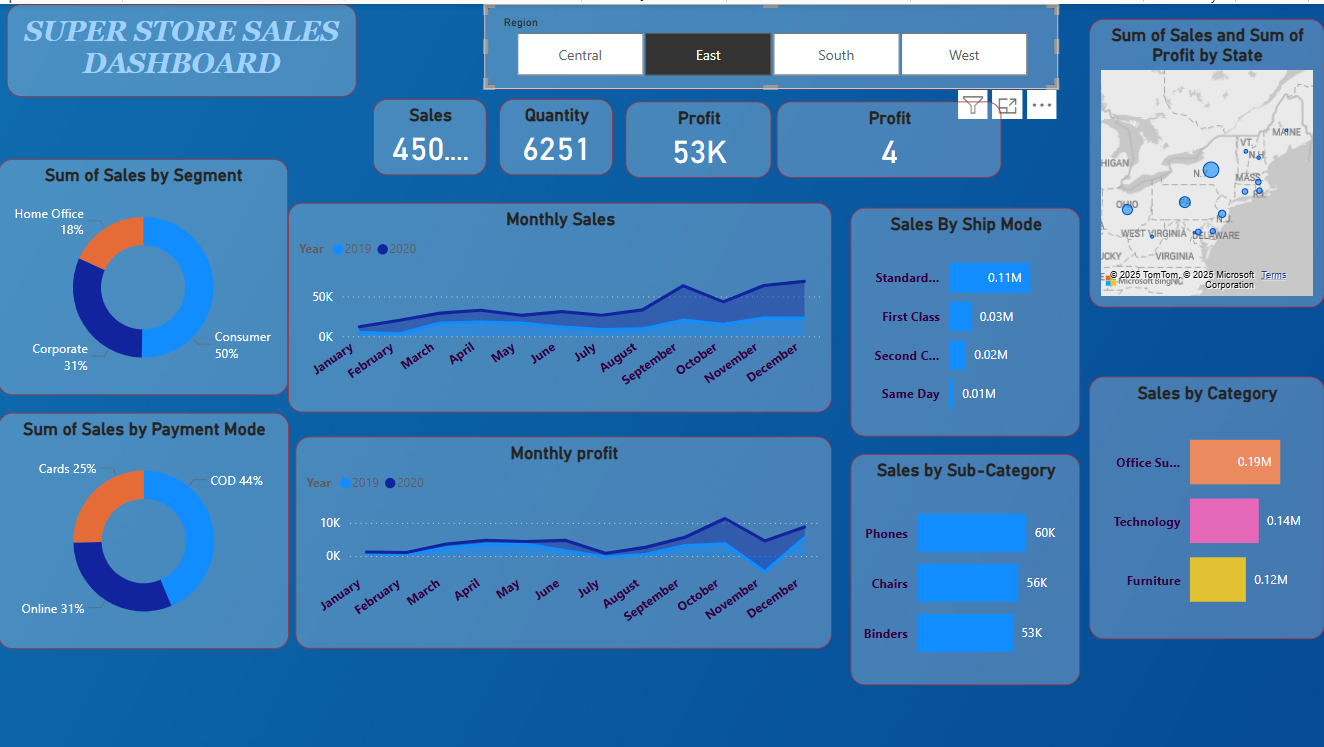

The page's visual inventory and layout, read from the dashboard file:
{"tool":"powerbi","page":{"name":"Page 1","canvas":[1280,720],"ordinal":0},"visuals":[{"type":"clusteredBarChart","title":"Sales by Category","fields":{"Category":["SuperStore_Sales_Dataset.Category"],"Y":["Sum(SuperStore_Sales_Dataset.Sales)"]},"box":[1053.2,359.5,226.8,253.4],"z":0},{"type":"clusteredBarChart","title":"Sales by Sub-Category","fields":{"Category":["SuperStore_Sales_Dataset.Sub-Category"],"Y":["Sum(SuperStore_Sales_Dataset.Sales)"]},"box":[822.8,434.3,222,223.2],"z":1000},{"type":"clusteredBarChart","title":"Sales By Ship Mode","fields":{"Category":["SuperStore_Sales_Dataset.Ship Mode"],"Y":["Sum(SuperStore_Sales_Dataset.Sales)"]},"box":[822.8,196.6,222,220.8],"z":2000},{"type":"stackedAreaChart","title":" Monthly Sales","fields":{"Y":["Sum(SuperStore_Sales_Dataset.Sales)"],"Category":["SuperStore_Sales_Dataset.Order Date.Variation.Date Hierarchy.Month","SuperStore_Sales_Dataset.Order Date.Variation.Date Hierarchy.Day"],"Series":["SuperStore_Sales_Dataset.Order Date.Variation.Date Hierarchy.Year"]},"box":[279.9,191.8,524.8,202.7],"z":3000},{"type":"stackedAreaChart","title":"Monthly profit","fields":{"Category":["SuperStore_Sales_Dataset.Order Date.Variation.Date Hierarchy.Month","SuperStore_Sales_Dataset.Order Date.Variation.Date Hierarchy.Day"],"Series":["SuperStore_Sales_Dataset.Order Date.Variation.Date Hierarchy.Year"],"Y":["Sum(SuperStore_Sales_Dataset.Profit)"]},"box":[287.1,417.4,517.6,205.1],"z":4000},{"type":"map","fields":{"Category":["SuperStore_Sales_Dataset.State"],"Size":["Sum(SuperStore_Sales_Dataset.Sales)"]},"box":[1053.2,14.5,226.8,278.7],"z":5000},{"type":"donutChart","fields":{"Category":["SuperStore_Sales_Dataset.Segment"],"Y":["Sum(SuperStore_Sales_Dataset.Sales)"]},"box":[0,149.6,279.9,228],"z":6000},{"type":"donutChart","fields":{"Category":["SuperStore_Sales_Dataset.Payment Mode"],"Y":["Sum(SuperStore_Sales_Dataset.Sales)"]},"box":[0,394.5,281.1,228],"z":7000},{"type":"slicer","fields":{"Values":["SuperStore_Sales_Dataset.Region"]},"box":[469.3,0,553.8,82],"z":8000},{"type":"textbox","box":[8.4,0,337.8,89.3],"z":9000},{"type":"card","title":"Sales","fields":{"Values":["Sum(SuperStore_Sales_Dataset.Sales)"]},"box":[361.9,91.7,109.8,73.6],"z":10000},{"type":"card","title":"Quantity","fields":{"Values":["Sum(SuperStore_Sales_Dataset.Quantity)"]},"box":[483.8,91.7,109.8,73.6],"z":11000},{"type":"card","title":"Profit","fields":{"Values":["Sum(SuperStore_Sales_Dataset.Profit)"]},"box":[605.6,94.1,141.2,73.6],"z":12000},{"type":"card","title":"Profit","fields":{"Values":["Avg(SuperStore_Sales_Dataset.AvgDelivery)"]},"box":[751.6,94.1,217.2,73.6],"z":13000}]}

Visuals, with their boxes in screenshot pixels (x1, y1, x2, y2), scaled from the page's 1280x720 canvas onto the 1324x747 screenshot:
"Sales by Category" clusteredBarChart: 1089, 373, 1323, 636
"Sales by Sub-Category" clusteredBarChart: 851, 451, 1081, 682
"Sales By Ship Mode" clusteredBarChart: 851, 204, 1081, 433
" Monthly Sales" stackedAreaChart: 290, 199, 832, 409
"Monthly profit" stackedAreaChart: 297, 433, 832, 646
map - SuperStore_Sales_Dataset.State x Sum(SuperStore_Sales_Dataset.Sales): 1089, 15, 1323, 304
donutChart - SuperStore_Sales_Dataset.Segment x Sum(SuperStore_Sales_Dataset.Sales): 0, 155, 290, 392
donutChart - SuperStore_Sales_Dataset.Payment Mode x Sum(SuperStore_Sales_Dataset.Sales): 0, 409, 291, 646
slicer - SuperStore_Sales_Dataset.Region: 485, 0, 1058, 85
textbox: 9, 0, 358, 93
"Sales" card: 374, 95, 488, 171
"Quantity" card: 500, 95, 614, 171
"Profit" card: 626, 98, 772, 174
"Profit" card: 777, 98, 1002, 174
